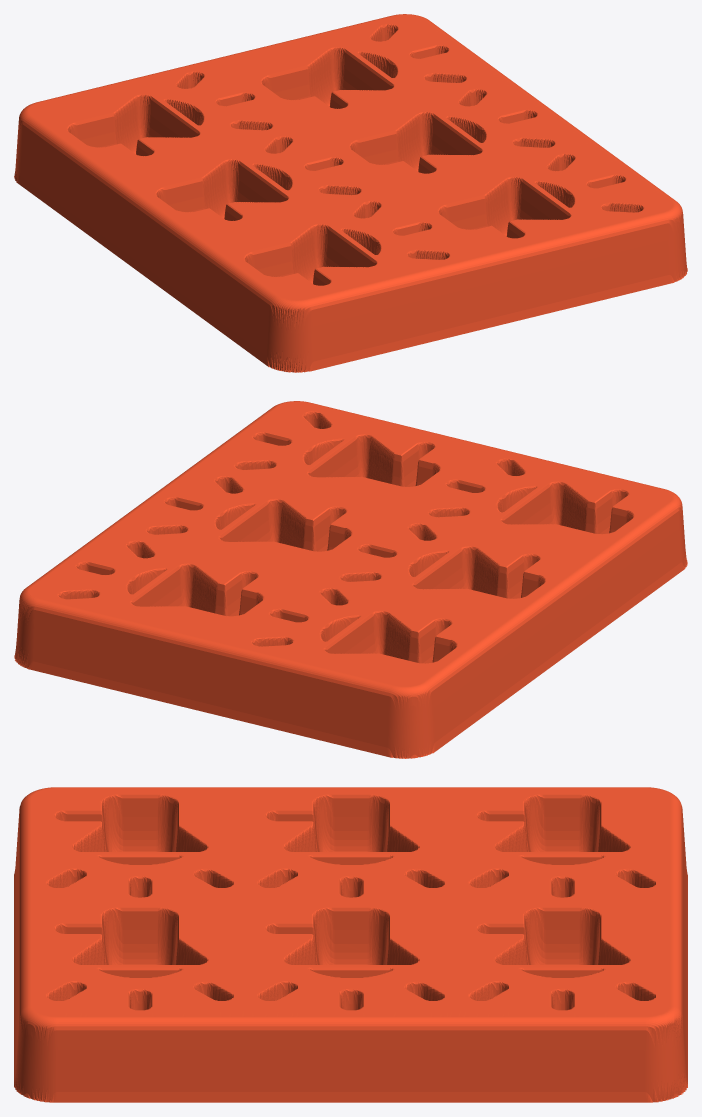
File: mold.glb
The picture shows the model from 3 angles, top to bottom: view 1: azimuth 30°, elevation 25°; view 2: azimuth 150°, elevation 25°; view 3: azimuth 270°, elevation 25°; orthographic projection. The views are drawn at different scales.
Visible parts, largest first — view 1: geometry_0; view 2: geometry_0; view 3: geometry_0.
Part boxes in pixels (x1=…): geometry_0: x1=14, y1=14, x2=687, y2=372; geometry_0: x1=14, y1=401, x2=687, y2=758; geometry_0: x1=14, y1=787, x2=687, y2=1102.
Bounding box in the file's own units: 0.1222 × 0.0185 × 0.1434.
